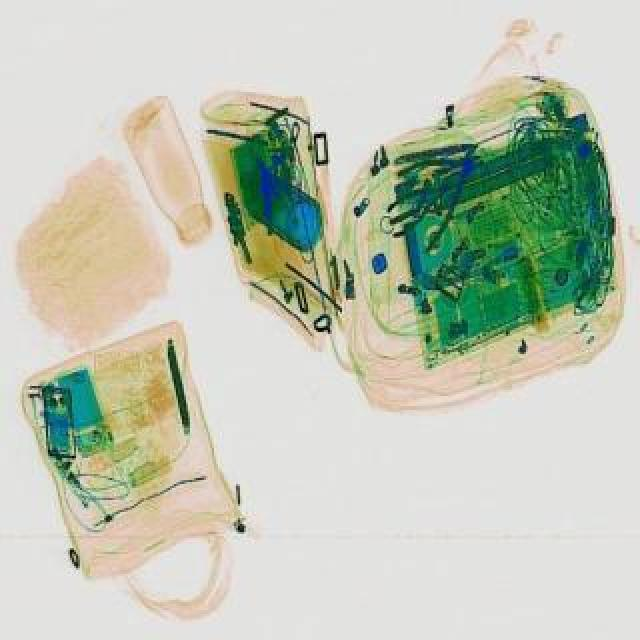wrench: (368, 130, 512, 258), (376, 174, 462, 244)
